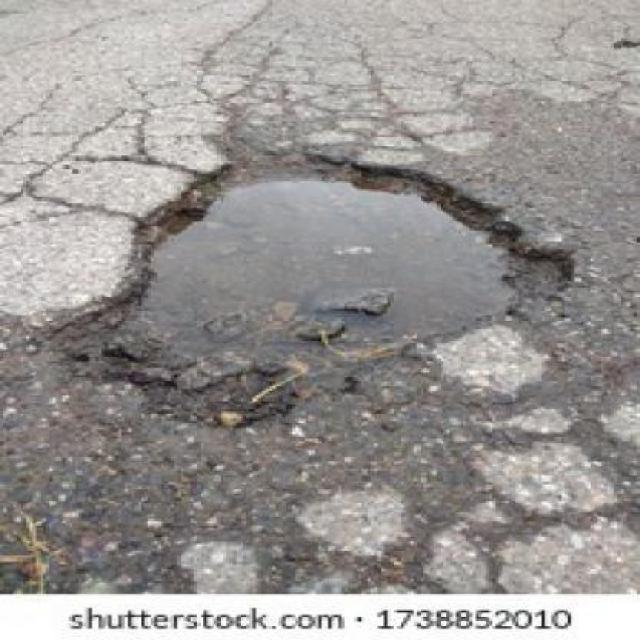Pothole: (56, 146, 582, 428)
